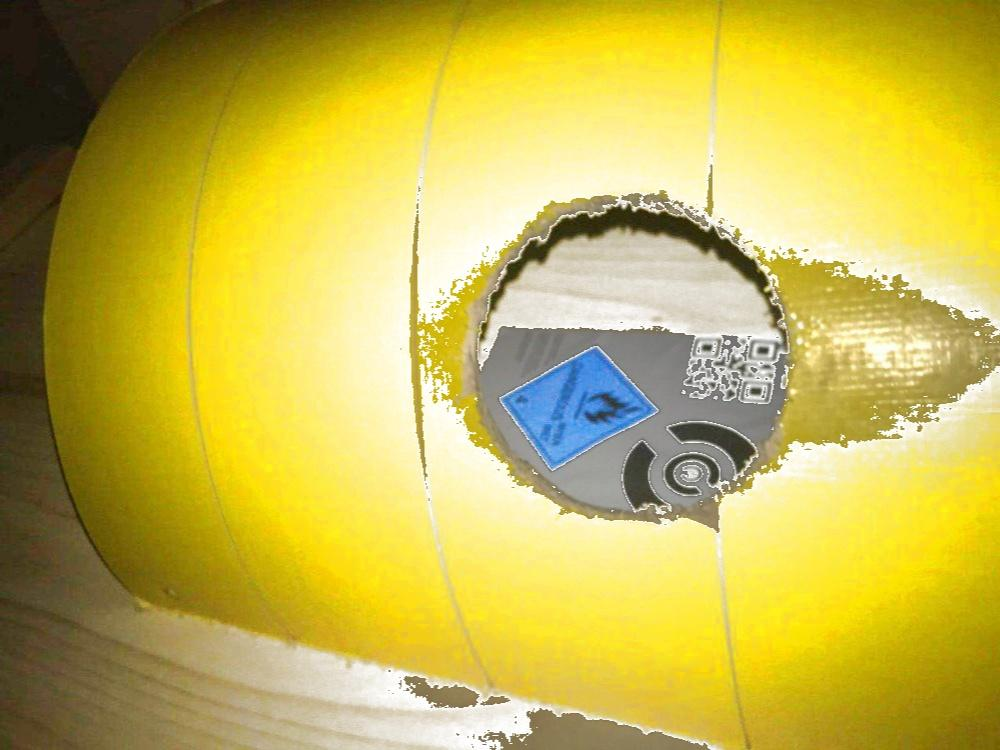dangerous-when-wet: (498, 345, 665, 464)
